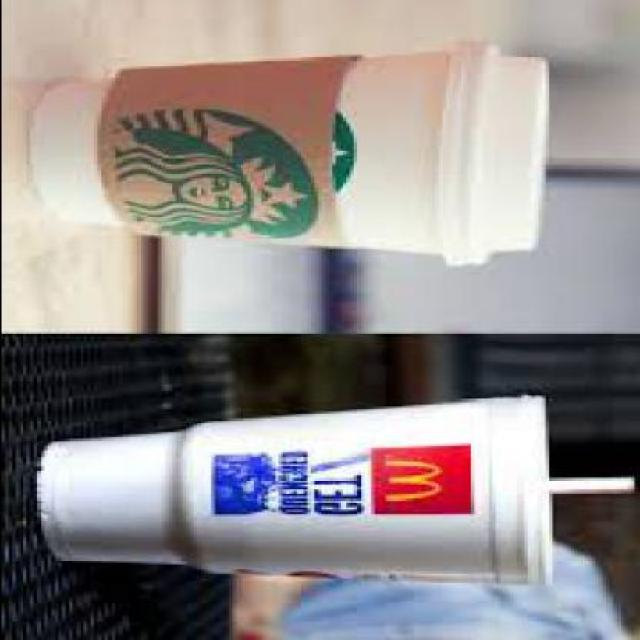CARDBOARD: (100, 60, 358, 254)
PAPER: (32, 398, 554, 590), (28, 52, 455, 268)
